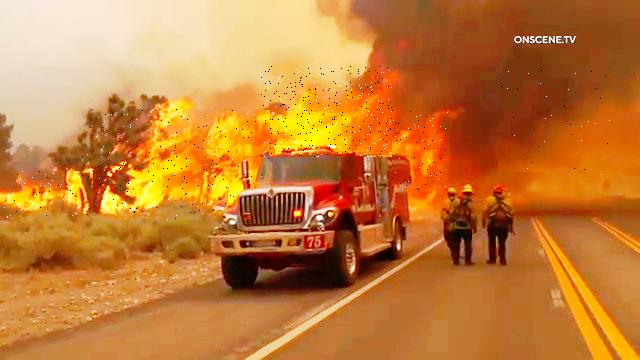fire: (82, 109, 238, 220), (260, 66, 392, 157), (392, 110, 450, 191), (0, 172, 93, 220), (214, 111, 270, 188)
smoke: (499, 67, 622, 176)
